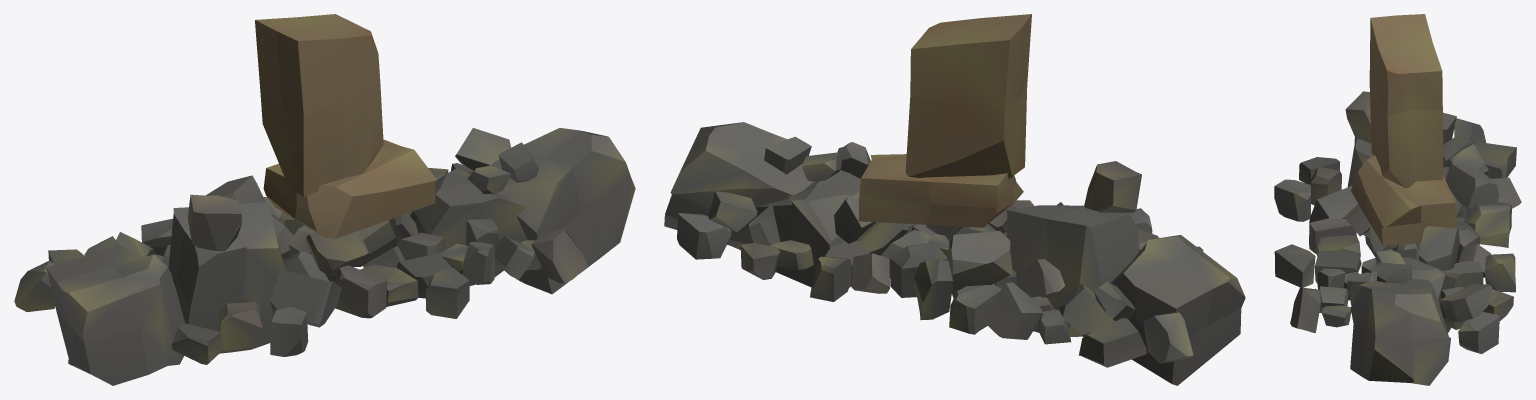
The model's file is cima-astorg.glb.
3 views of the same model, side by side, from view 1: azimuth 30°, elevation 25°; view 2: azimuth 150°, elevation 25°; view 3: azimuth 270°, elevation 25° (orthographic). The views are drawn at different scales.
Parts seen in each view (by area): view 1: laja_alta, cresta0, cresta3, cresta1, laja_plana, cresta2, bloque14, bloque2, bloque18, bloque26, bloque0, bloque32 (+18 smaller); view 2: laja_alta, cresta0, cresta1, cresta3, laja_plana, cresta2, bloque49, bloque14, bloque31, bloque29, bloque28, bloque35 (+20 smaller); view 3: laja_alta, cresta3, laja_plana, bloque49, bloque35, bloque25, bloque27, bloque36, bloque41, bloque44, cresta2, bloque51 (+28 smaller).
Part boxes in pixels (x1,y1,x2,y2): laja_alta: (255, 14, 383, 196); cresta0: (46, 244, 184, 385); cresta3: (489, 128, 635, 294); cresta1: (168, 201, 285, 353); laja_plana: (263, 139, 437, 238); cresta2: (410, 168, 527, 285); bloque14: (187, 194, 241, 251); bloque2: (270, 269, 341, 327); bloque18: (334, 265, 387, 318); bloque26: (531, 229, 587, 283); bloque0: (218, 302, 262, 350); bloque32: (306, 231, 369, 275); laja_alta: (905, 14, 1031, 178); cresta0: (1110, 235, 1245, 385); cresta1: (1006, 205, 1139, 336); cresta3: (664, 122, 813, 249); laja_plana: (858, 154, 1023, 227); cresta2: (751, 170, 860, 287); bloque49: (947, 231, 1012, 287); bloque14: (1084, 161, 1141, 212); bloque31: (980, 282, 1043, 339); bloque29: (1078, 318, 1146, 367); bloque28: (1144, 311, 1193, 363); bloque35: (914, 259, 953, 320); laja_alta: (1369, 14, 1442, 188); cresta3: (1350, 278, 1450, 385); laja_plana: (1351, 155, 1457, 245); bloque49: (1445, 163, 1499, 208); bloque35: (1464, 201, 1509, 247); bloque25: (1418, 226, 1459, 270); bloque27: (1440, 284, 1495, 322); bloque36: (1274, 244, 1315, 287); bloque41: (1458, 312, 1499, 354); bloque44: (1274, 179, 1310, 221); cresta2: (1368, 257, 1455, 332); bloque51: (1485, 253, 1515, 292).
Bounding box in the file's own units: 5.9 × 3.06 × 2.68.
